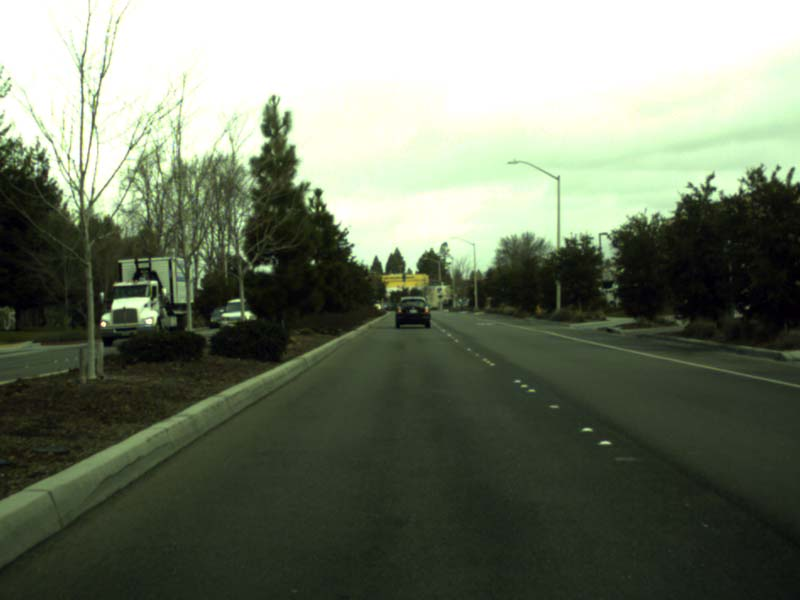Green: (401, 272, 405, 281), (439, 288, 441, 293), (450, 286, 452, 290)
